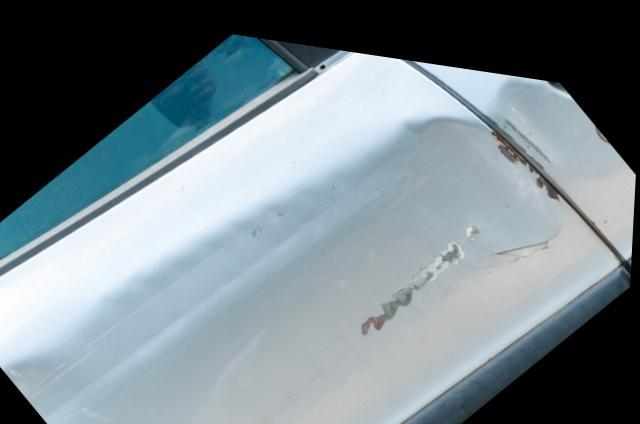dent: (4, 104, 562, 424), (495, 65, 608, 162)
